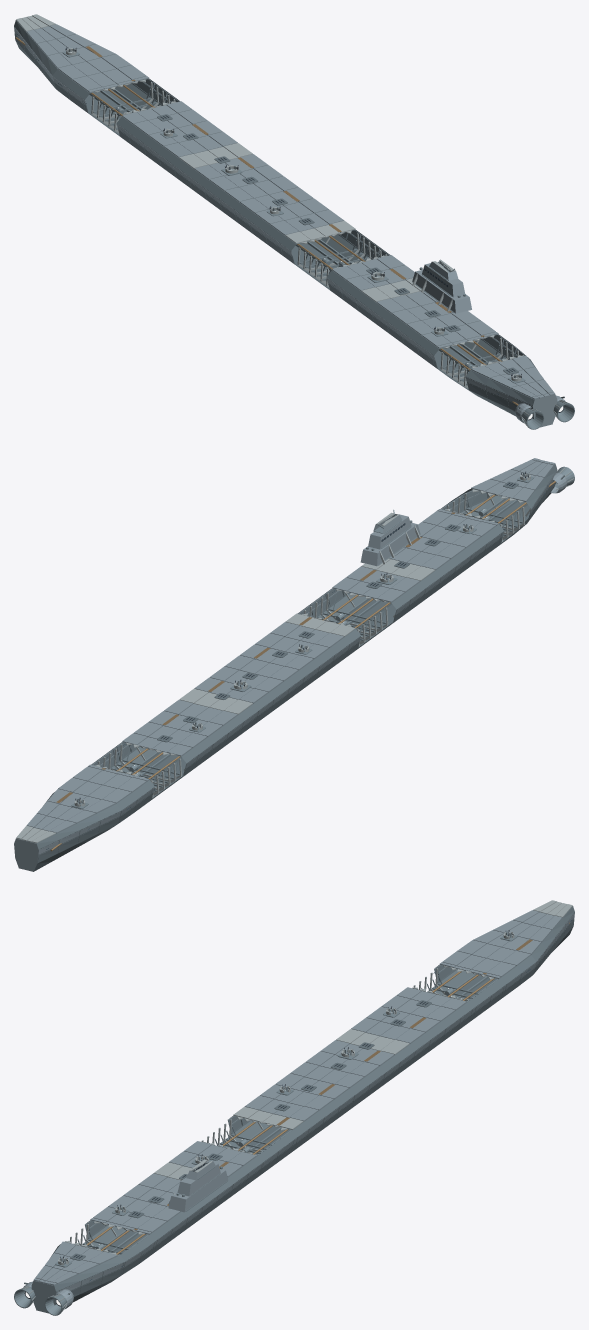
Rendered from dreadnought.glb.
3 views of the same model, one above another, from view 1: azimuth 30°, elevation 25°; view 2: azimuth 150°, elevation 25°; view 3: azimuth 330°, elevation 25° (orthographic).
Parts seen in each view (by area): view 1: DN_0042__hull, DN_0036__hull, DN_0041__hull, DN_0039__hull, DN_0038__hull, DN_0040__hull, DN_0043__hull, DN_0037__hull, DN_0035__hull, DN_0040__dark, DN_0042__dark, DN_0037__dark; view 2: DN_0041__hull, DN_0039__hull, DN_0038__hull, DN_0036__hull, DN_0037__hull, DN_0043__hull, DN_0042__hull, DN_0040__hull, DN_0035__hull, DN_0037__dark, DN_0043__dark, DN_0040__dark (+1 smaller); view 3: DN_0042__hull, DN_0036__hull, DN_0039__hull, DN_0038__hull, DN_0041__hull, DN_0043__hull, DN_0040__hull, DN_0037__hull, DN_0035__hull, DN_0040__dark, DN_0042__dark.
Part boxes in pixels (x1,y1,x2,y2): DN_0042__hull: [391, 279, 521, 388]; DN_0036__hull: [36, 37, 157, 121]; DN_0041__hull: [330, 257, 458, 337]; DN_0039__hull: [209, 168, 333, 253]; DN_0038__hull: [148, 124, 272, 203]; DN_0040__hull: [269, 213, 394, 292]; DN_0043__hull: [457, 350, 567, 427]; DN_0037__hull: [92, 82, 212, 159]; DN_0035__hull: [14, 14, 82, 68]; DN_0040__dark: [295, 219, 384, 284]; DN_0042__dark: [428, 285, 510, 376]; DN_0037__dark: [93, 89, 173, 135]; DN_0041__hull: [330, 512, 461, 626]; DN_0039__hull: [215, 629, 339, 708]; DN_0038__hull: [154, 673, 278, 753]; DN_0036__hull: [41, 764, 154, 847]; DN_0037__hull: [91, 718, 218, 799]; DN_0043__hull: [452, 458, 571, 537]; DN_0042__hull: [398, 498, 516, 575]; DN_0040__hull: [275, 585, 400, 664]; DN_0035__hull: [14, 809, 86, 871]; DN_0037__dark: [102, 724, 202, 791]; DN_0043__dark: [461, 470, 570, 527]; DN_0040__dark: [302, 595, 386, 640]; DN_0042__hull: [75, 1178, 197, 1267]; DN_0036__hull: [434, 923, 552, 1001]; DN_0039__hull: [255, 1054, 379, 1135]; DN_0038__hull: [316, 1009, 440, 1089]; DN_0041__hull: [133, 1143, 258, 1223]; DN_0043__hull: [21, 1236, 136, 1313]; DN_0040__hull: [194, 1099, 319, 1178]; DN_0037__hull: [376, 968, 501, 1045]; DN_0035__hull: [506, 900, 574, 954]; DN_0040__dark: [209, 1105, 297, 1155]; DN_0042__dark: [78, 1191, 196, 1254].
Size of the model in its own units: 64.12 by 53.84 by 829.
